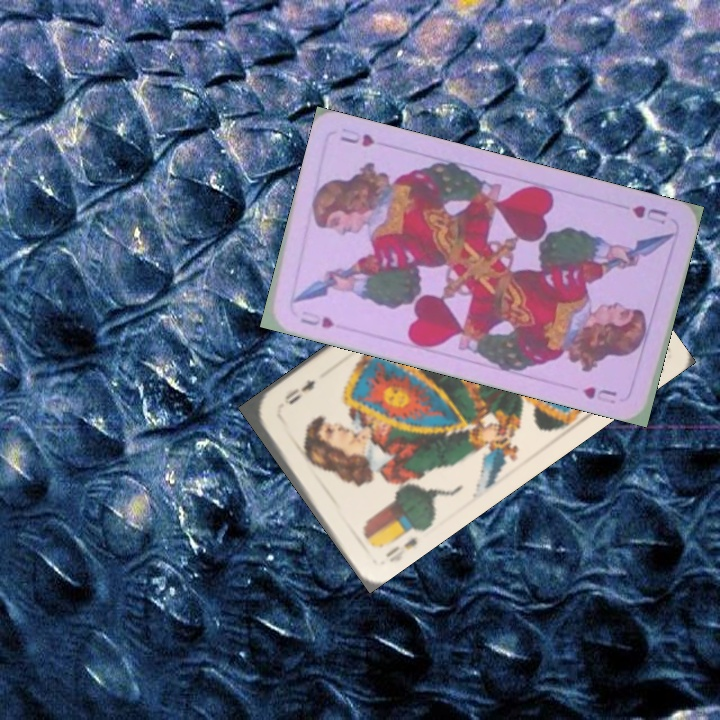EO: (381, 533, 420, 566)
HU: (627, 201, 670, 227), (296, 306, 338, 332)
